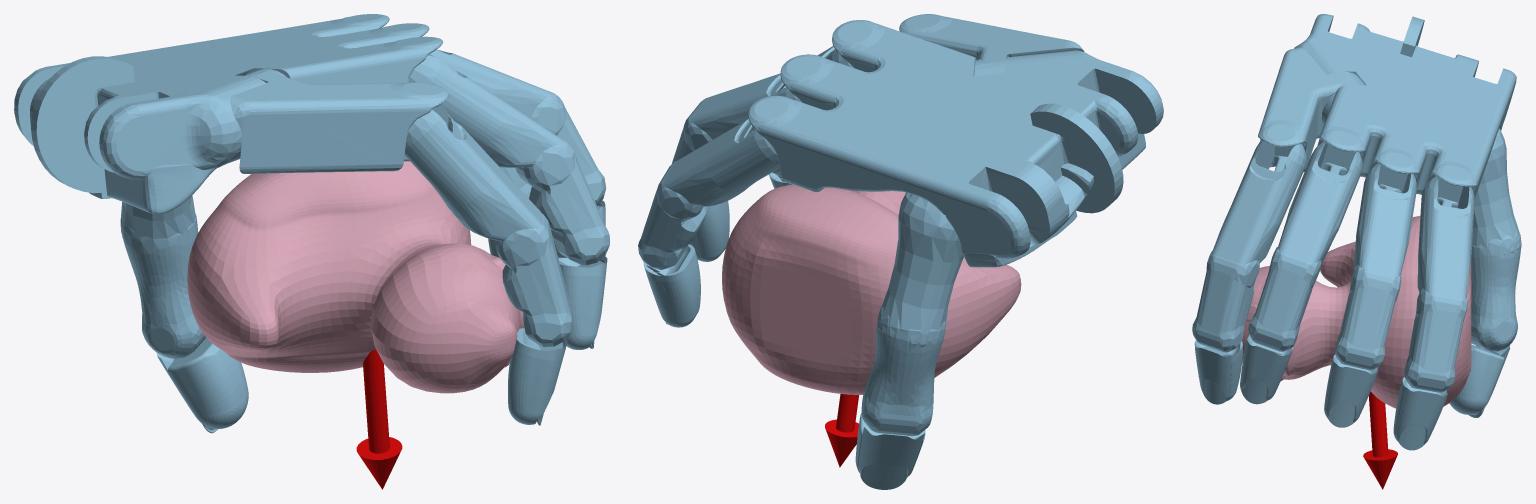
3 views of the same model, side by side, from view 1: azimuth 30°, elevation 25°; view 2: azimuth 150°, elevation 25°; view 3: azimuth 270°, elevation 25° (orthographic). The views are drawn at different scales.
Parts seen in each view (by area): view 1: world, rubber_duck.stl; view 2: world, rubber_duck.stl; view 3: world, rubber_duck.stl.
Part boxes in pixels (box(x1,y1,x2,y2)): world: box(14, 14, 609, 489); rubber_duck.stl: box(187, 161, 524, 393); world: box(638, 14, 1163, 489); rubber_duck.stl: box(722, 184, 1021, 394); world: box(1192, 14, 1521, 489); rubber_duck.stl: box(1242, 216, 1471, 408).
Bounding box in the file's own units: 0.1751 × 0.1526 × 0.1237.
